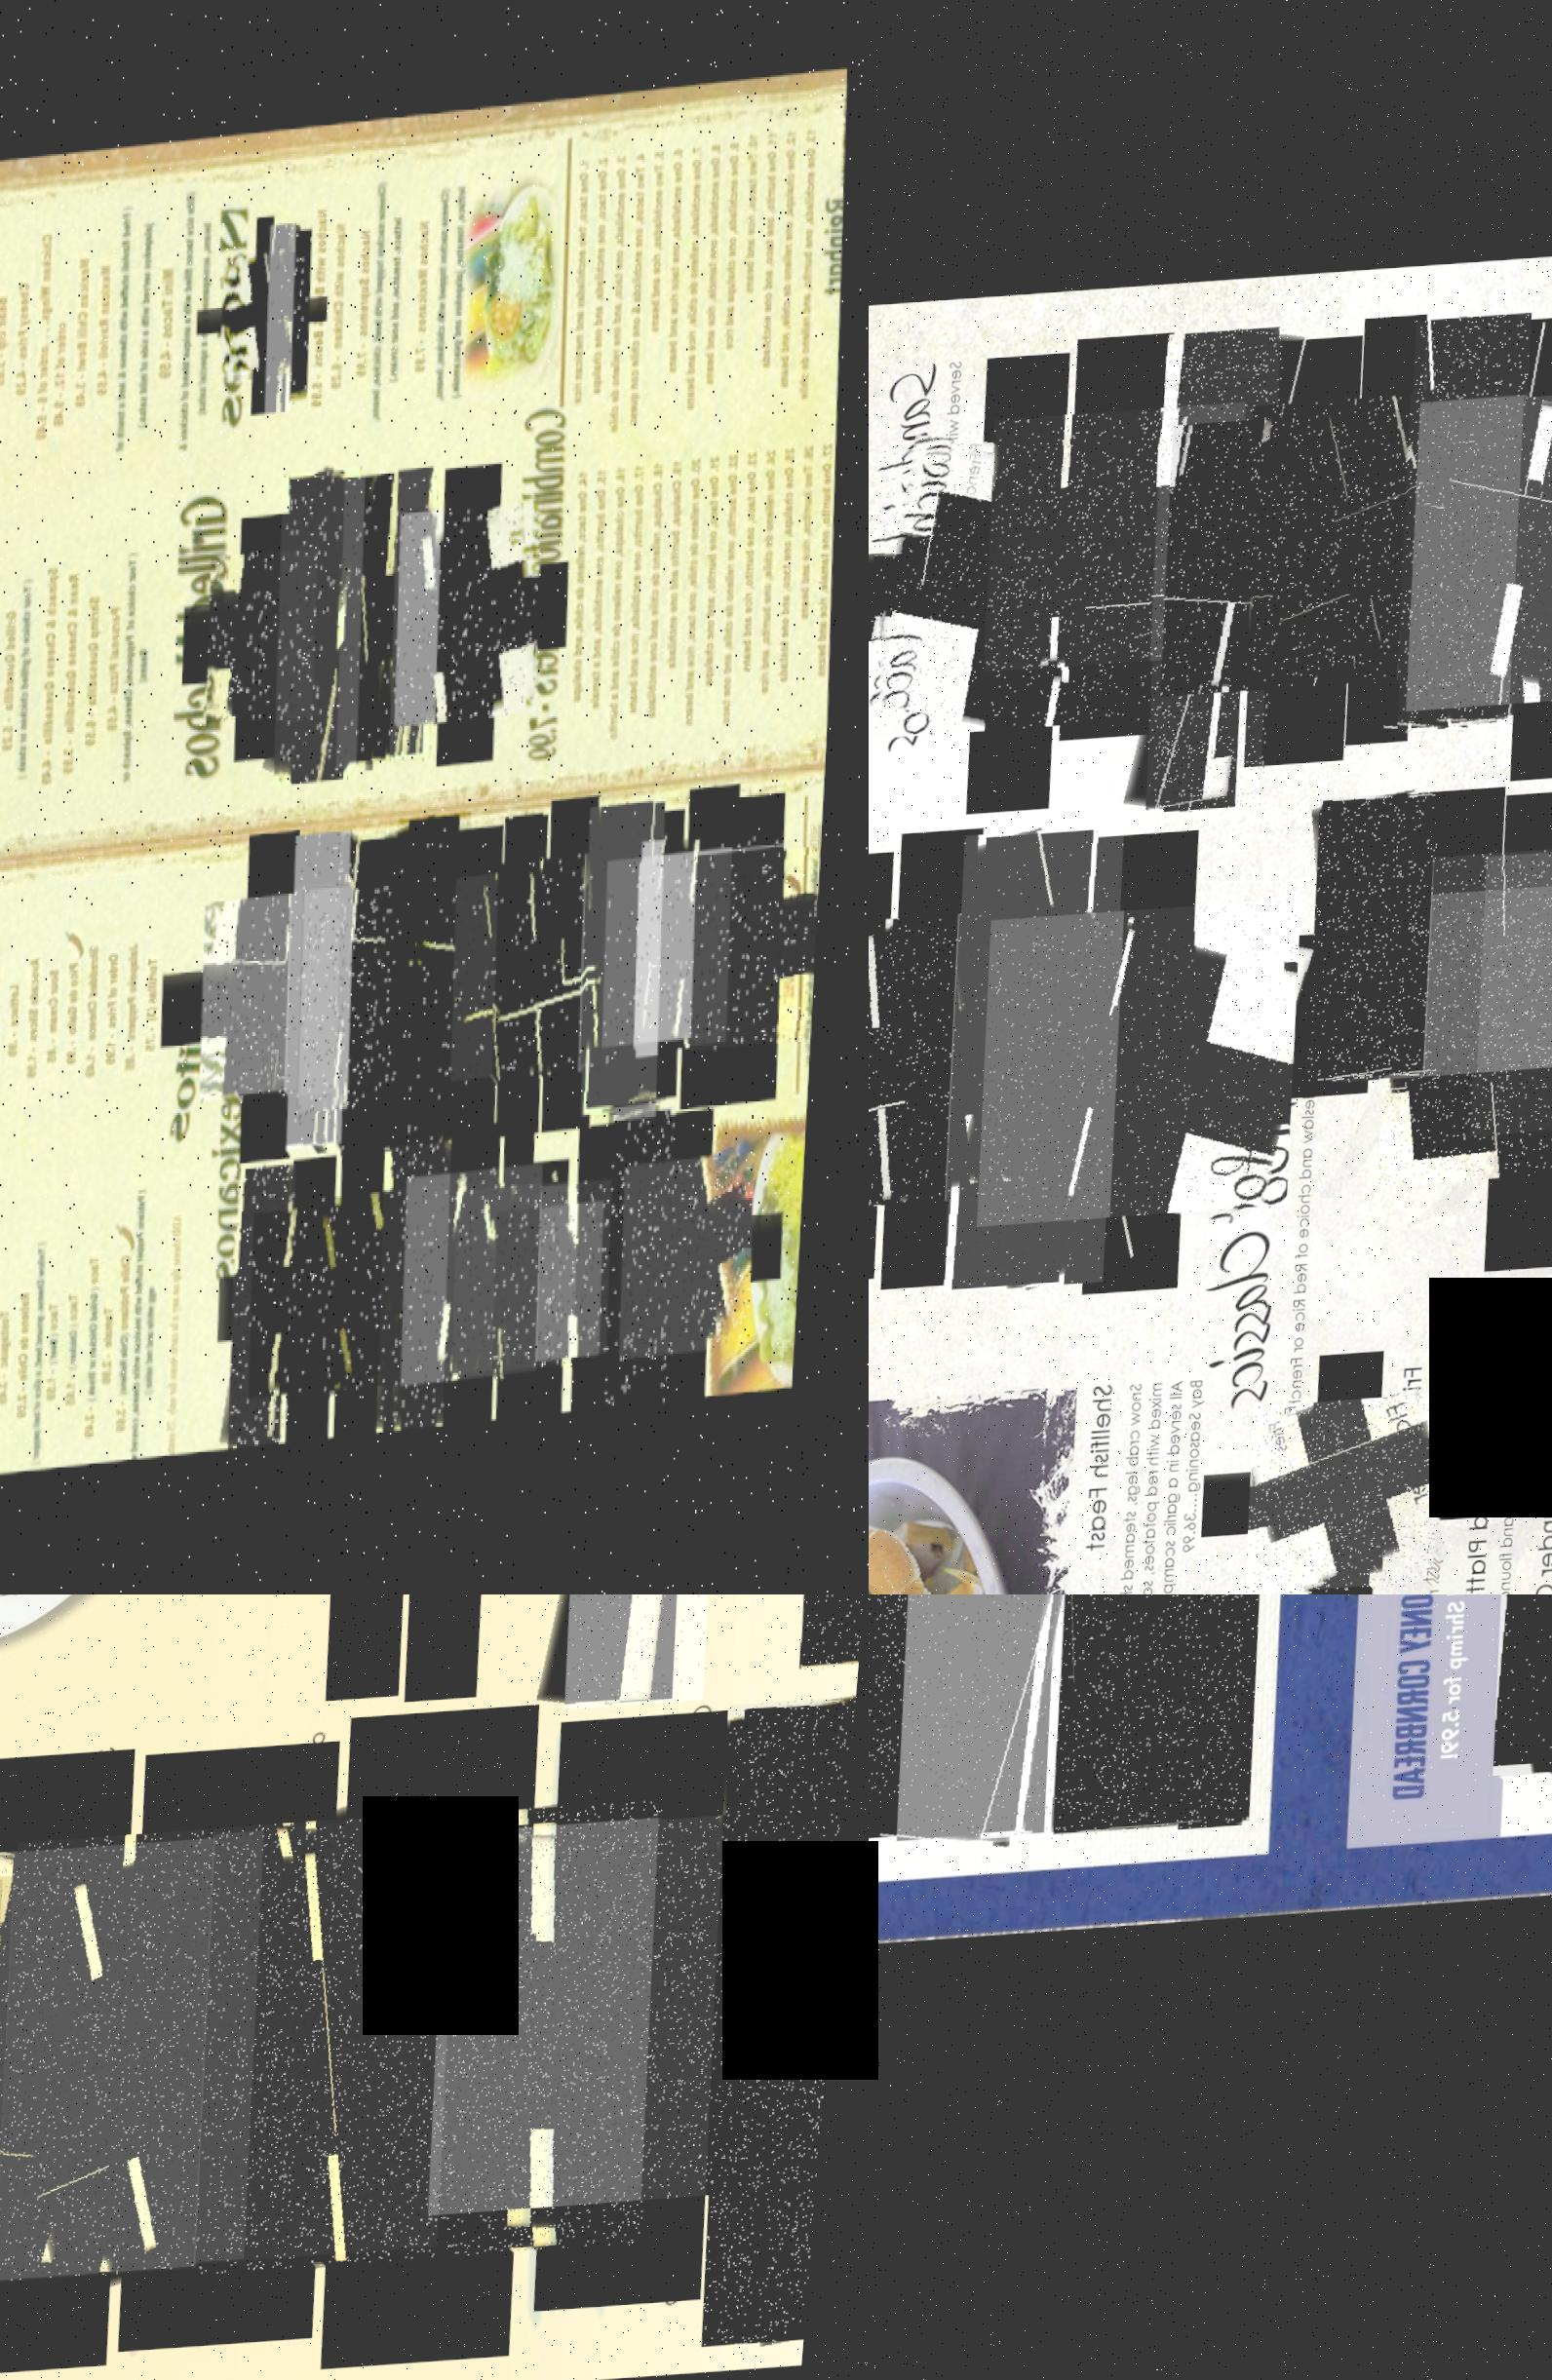Menu-Items: (214, 1809, 703, 2283), (14, 1818, 500, 2288), (448, 1818, 868, 2224), (0, 1841, 306, 2297), (993, 906, 1330, 1233), (710, 1707, 868, 2357), (870, 435, 1191, 744), (953, 831, 1160, 1299), (1168, 415, 1467, 704), (1250, 396, 1547, 682), (1146, 333, 1311, 822), (988, 409, 1267, 678), (868, 911, 1111, 1216), (1397, 323, 1552, 746), (1071, 1594, 1304, 1842), (913, 1594, 1118, 1856), (1391, 888, 1552, 1195), (1354, 857, 1552, 1091), (1411, 392, 1552, 720), (868, 925, 1017, 1219), (1319, 800, 1467, 1089), (1269, 1402, 1479, 1594), (307, 881, 467, 1114), (642, 840, 800, 1069), (505, 853, 661, 1084), (401, 507, 552, 730), (460, 869, 611, 1093), (868, 1594, 1017, 1816), (411, 1167, 561, 1388), (276, 468, 378, 788), (208, 892, 358, 1107), (394, 814, 488, 1154), (587, 807, 682, 1129), (0, 1880, 82, 2253), (630, 1159, 773, 1365), (304, 1192, 444, 1398), (417, 878, 557, 1082), (698, 853, 832, 1056), (611, 862, 746, 1060), (1391, 1358, 1502, 1594), (464, 1183, 597, 1379), (293, 831, 373, 1157), (260, 1204, 391, 1400), (615, 1110, 696, 1416), (387, 1143, 470, 1438), (547, 1180, 674, 1367), (238, 1164, 316, 1452), (340, 475, 415, 774), (210, 546, 333, 727), (868, 926, 941, 1226), (1465, 1353, 1552, 1594), (503, 1206, 621, 1381), (1486, 850, 1552, 1145), (392, 470, 455, 770), (222, 252, 311, 382), (266, 224, 302, 415), (292, 232, 319, 408)
